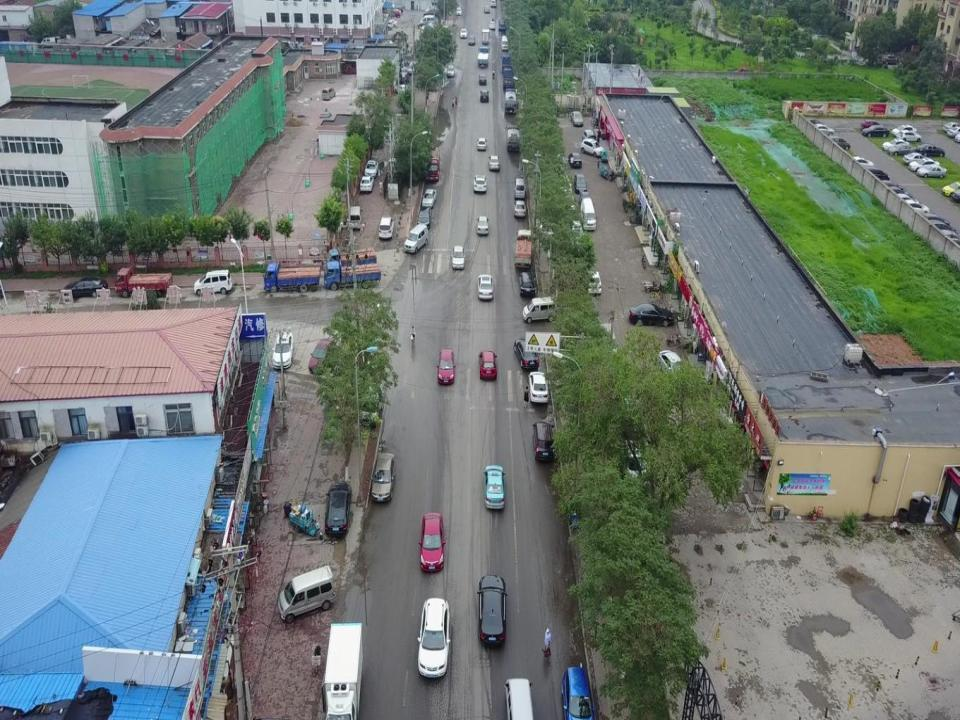car: (417, 598, 450, 678), (477, 574, 508, 646), (562, 665, 596, 720), (418, 512, 444, 572), (325, 484, 352, 534), (369, 452, 395, 502), (627, 302, 675, 327), (483, 464, 506, 510), (657, 348, 686, 383), (61, 277, 108, 298), (271, 330, 294, 370), (308, 340, 335, 374), (513, 338, 540, 370), (437, 349, 456, 384), (529, 372, 549, 403), (478, 350, 497, 380), (897, 199, 930, 216), (926, 221, 959, 238), (859, 166, 890, 184), (891, 193, 920, 212), (918, 212, 950, 229), (883, 188, 913, 205), (580, 138, 605, 158), (874, 180, 901, 198), (908, 157, 940, 171), (848, 156, 876, 172), (519, 271, 536, 297), (477, 274, 494, 299), (916, 143, 946, 157), (917, 164, 947, 178), (888, 142, 916, 156), (936, 228, 960, 244), (862, 124, 889, 138), (902, 152, 929, 166), (378, 216, 394, 239), (891, 124, 917, 138), (824, 136, 850, 150), (802, 118, 826, 133), (882, 138, 910, 150), (452, 246, 465, 270), (897, 129, 921, 142), (810, 124, 835, 136), (417, 209, 431, 230), (941, 181, 960, 196), (422, 189, 436, 208), (513, 200, 527, 219), (574, 174, 587, 194), (364, 160, 378, 178), (360, 175, 373, 193), (474, 174, 487, 192), (860, 119, 880, 130), (477, 216, 489, 234), (942, 121, 960, 133), (568, 153, 582, 168), (570, 111, 583, 127), (579, 192, 591, 208), (880, 55, 899, 65), (488, 156, 500, 170), (386, 8, 402, 18), (476, 137, 488, 150), (946, 126, 960, 137), (394, 84, 408, 95), (407, 62, 419, 74), (479, 90, 489, 102), (400, 71, 409, 83), (460, 27, 468, 39), (381, 21, 393, 29), (386, 19, 398, 27), (390, 7, 403, 14), (479, 74, 487, 85), (469, 36, 475, 46), (489, 21, 496, 29), (483, 6, 490, 13), (491, 0, 497, 7), (456, 8, 462, 15), (456, 3, 462, 9)
truck: (322, 622, 362, 720), (112, 266, 173, 298), (262, 264, 320, 294), (325, 264, 382, 288), (325, 249, 377, 273), (359, 382, 384, 429), (515, 230, 533, 269), (425, 148, 440, 182), (505, 124, 521, 152), (504, 88, 517, 114), (477, 46, 490, 68), (502, 68, 514, 90), (501, 56, 511, 77), (481, 28, 490, 44), (498, 19, 506, 30)
van: (278, 566, 336, 622), (610, 436, 647, 482), (504, 677, 533, 720), (192, 270, 233, 296), (594, 322, 620, 361), (522, 296, 556, 323), (532, 421, 554, 462), (404, 224, 428, 254), (580, 198, 597, 230), (570, 218, 585, 248), (347, 205, 363, 232), (556, 175, 573, 199), (586, 270, 602, 295), (582, 129, 598, 146), (514, 177, 526, 199), (40, 37, 61, 48), (563, 195, 576, 212), (321, 87, 336, 100), (500, 35, 508, 51), (447, 65, 454, 77)
